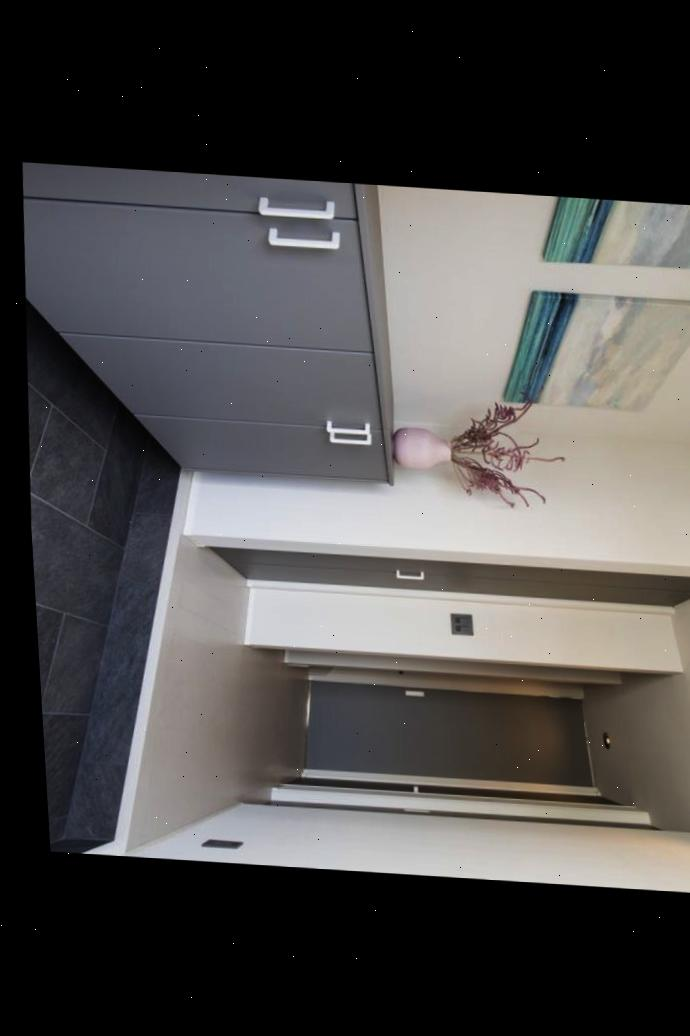floor: (25, 298, 148, 841)
safe: (125, 533, 310, 851)
